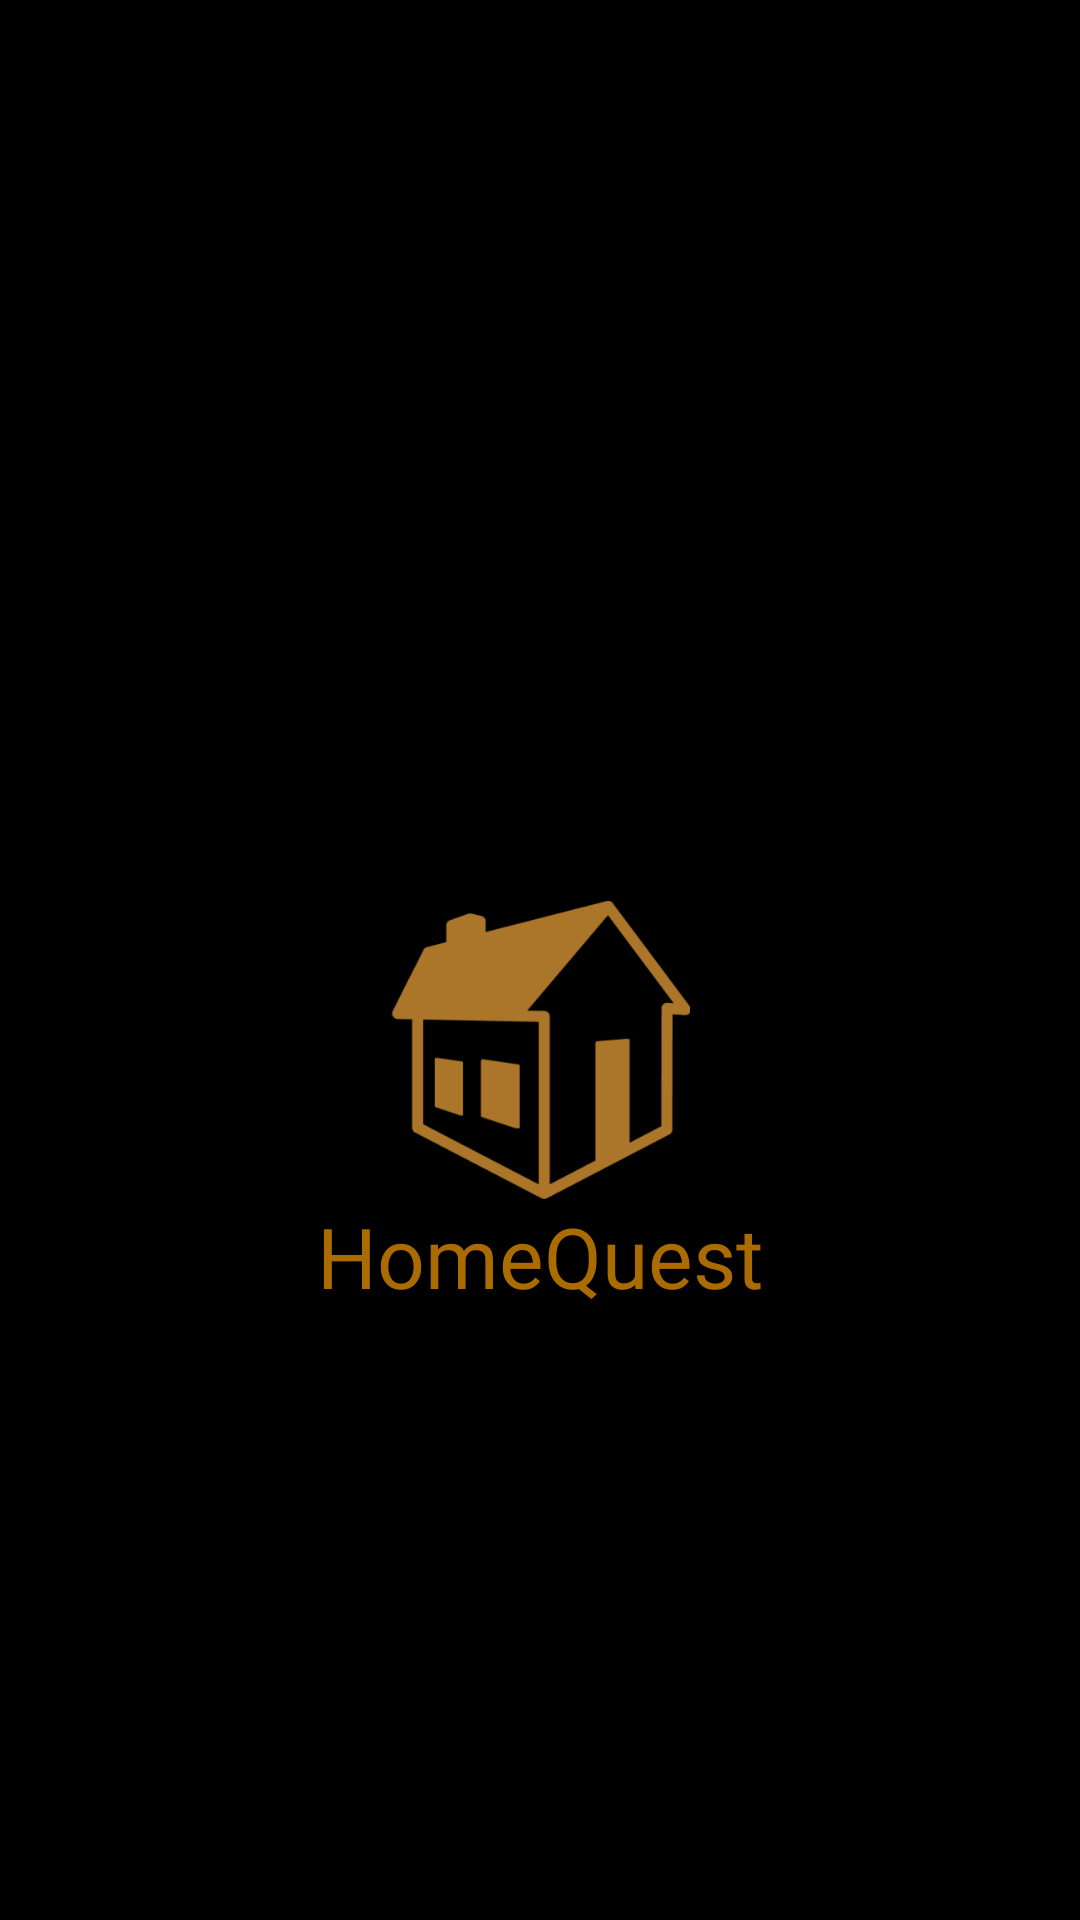

Named icons in this screenshot (1080px x 1920px) and their centers, [x,y]:
house group: [540,1050]
